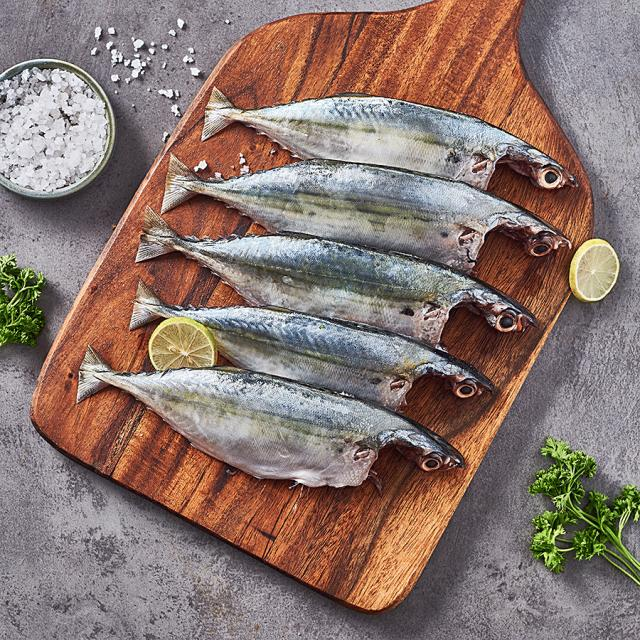Mackerel: (137, 206, 536, 346), (78, 346, 465, 489), (162, 155, 571, 273), (131, 282, 494, 411), (202, 88, 578, 189)
lemon: (149, 318, 218, 369), (570, 239, 619, 302)
